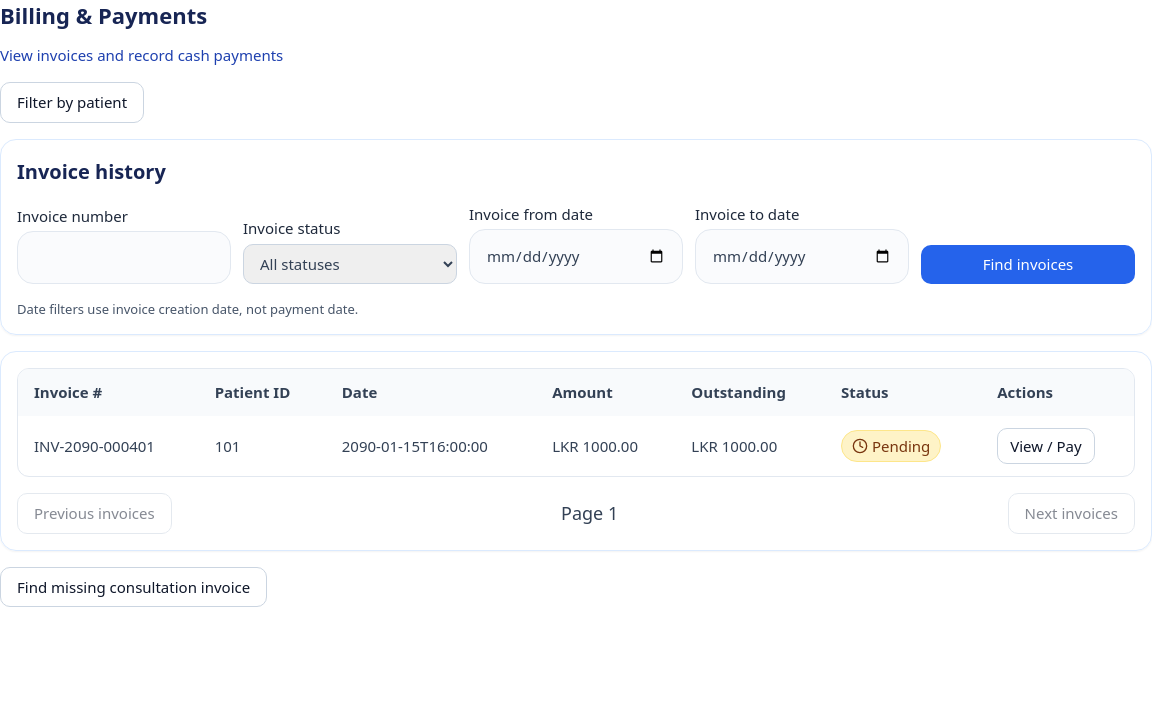
ADM-07 cash billing › rejects invalid amount 1000.01 before payment
The width and height of the screenshot is (1152, 720).
Step 1. Click the button with aria-label "View invoice INV-2090-000401" → {"x": 1046, "y": 446}, box [997,428,1094,464]
(page scrolled)
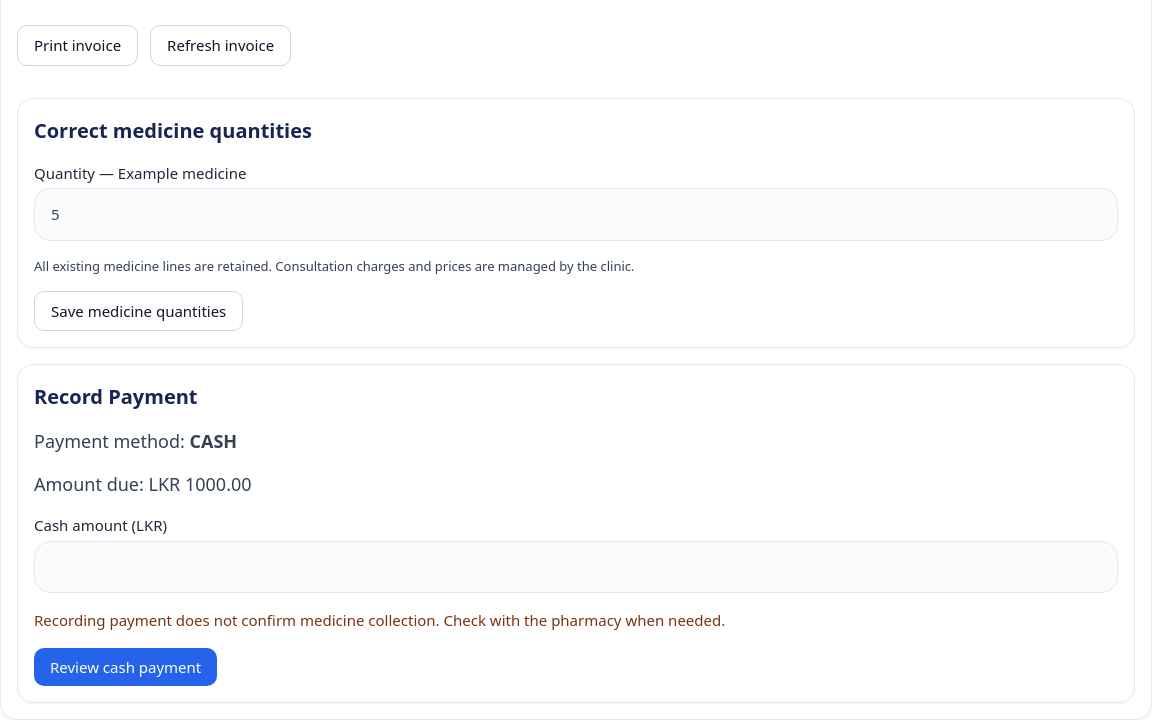
Result: the field labelled "Cash amount (LKR)" is shown
Step 2. Type "1000.01" into the field labelled "Cash amount (LKR)" → {"x": 576, "y": 567}, box [34,541,1118,593]
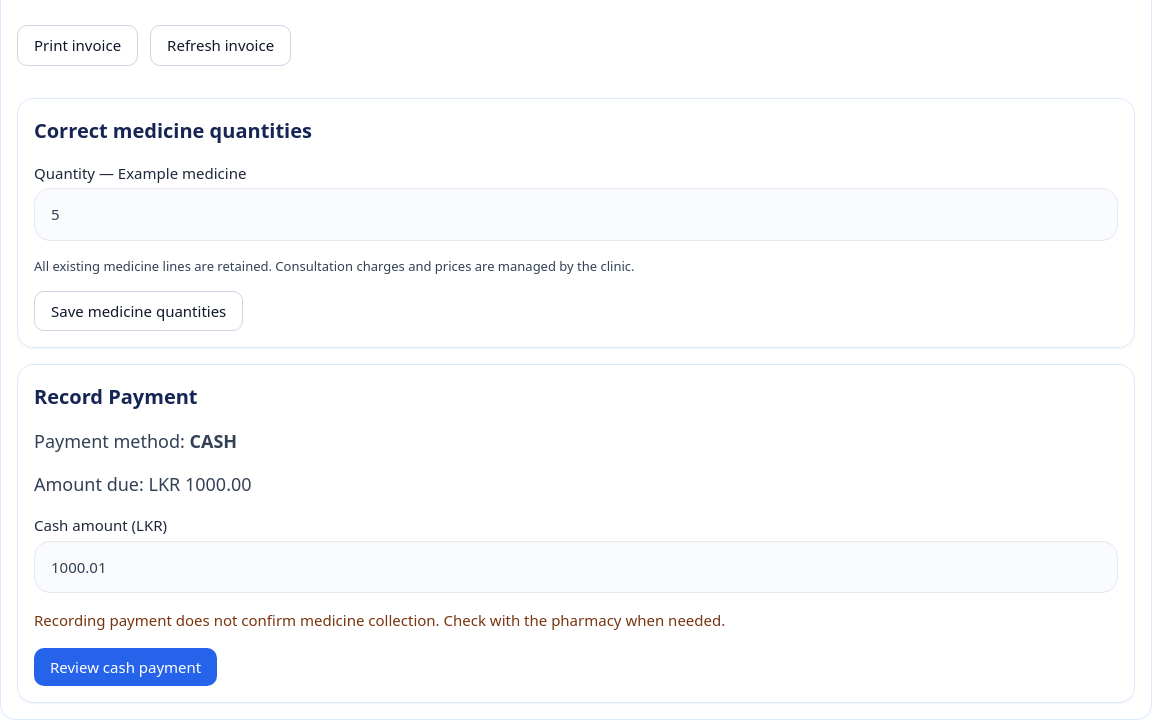
Step 3. Click the button "Review cash payment" → {"x": 126, "y": 667}, box [34,648,217,686]
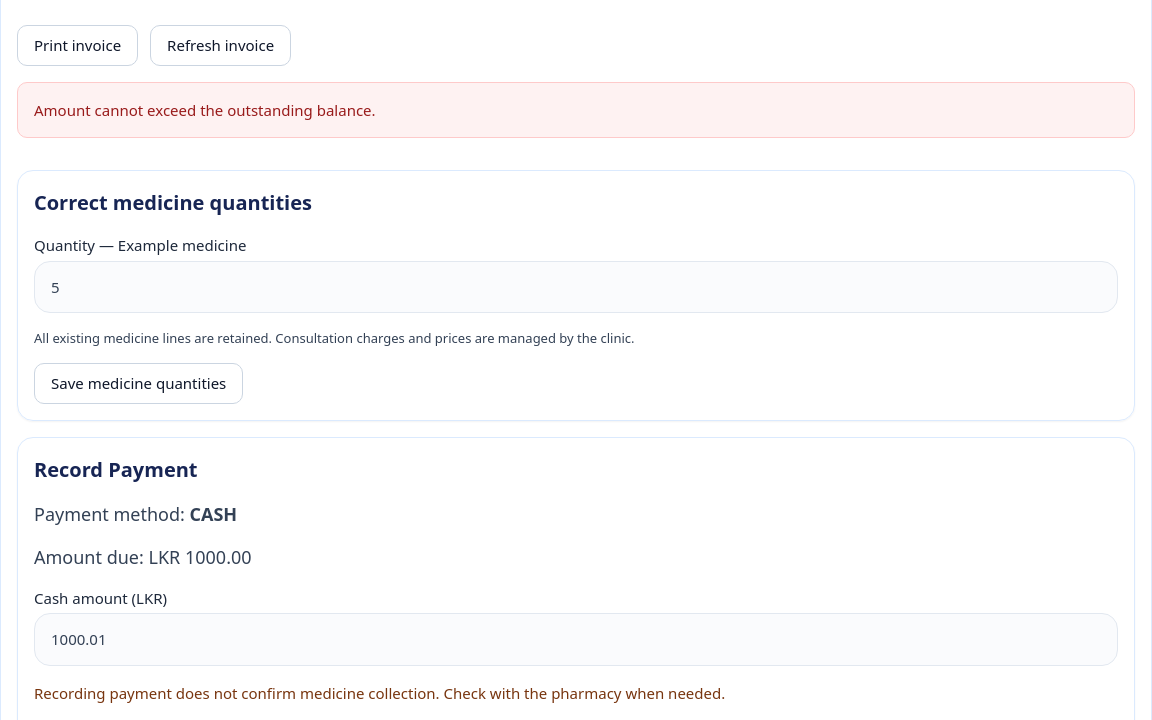
Result: the message "Amount cannot exceed the outstanding balance." is shown at [17,82,1135,138]
